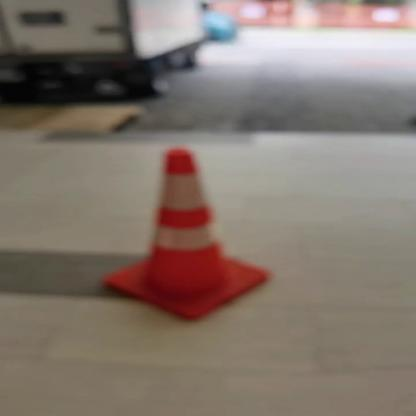cone: (90, 146, 272, 324)
